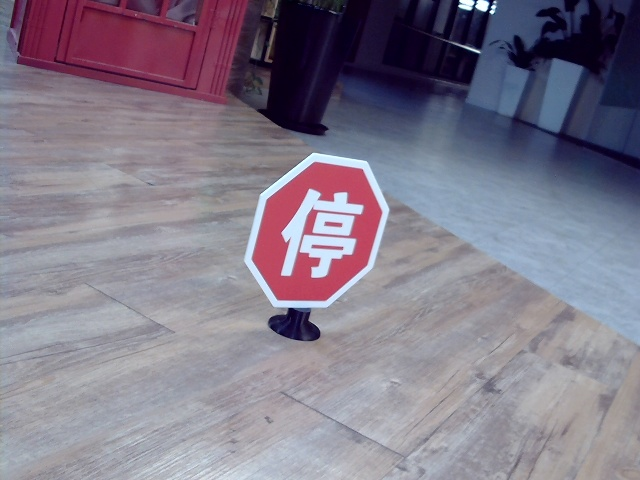stop: (284, 187, 359, 281)
